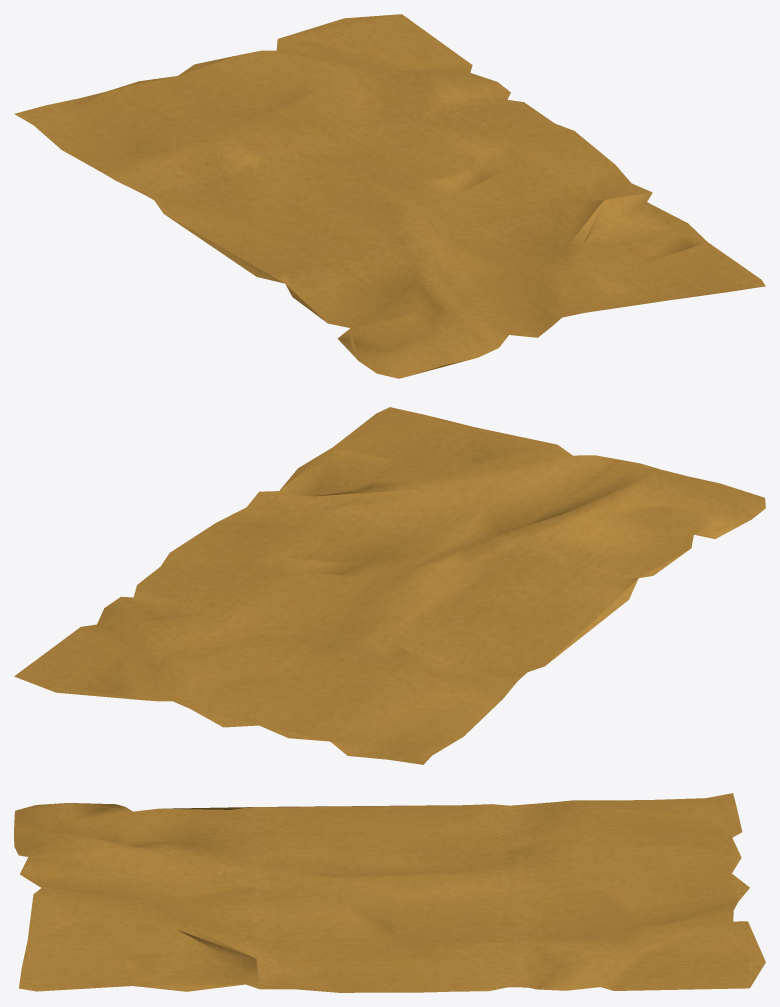
File: Carpet0017.obj
3 views of the same model, one above another, from view 1: azimuth 30°, elevation 25°; view 2: azimuth 150°, elevation 25°; view 3: azimuth 270°, elevation 25° (orthographic).
Size of the model in its own units: 1.91 by 0.1 by 3.09.
Materials: 1 (1 with a texture image).
